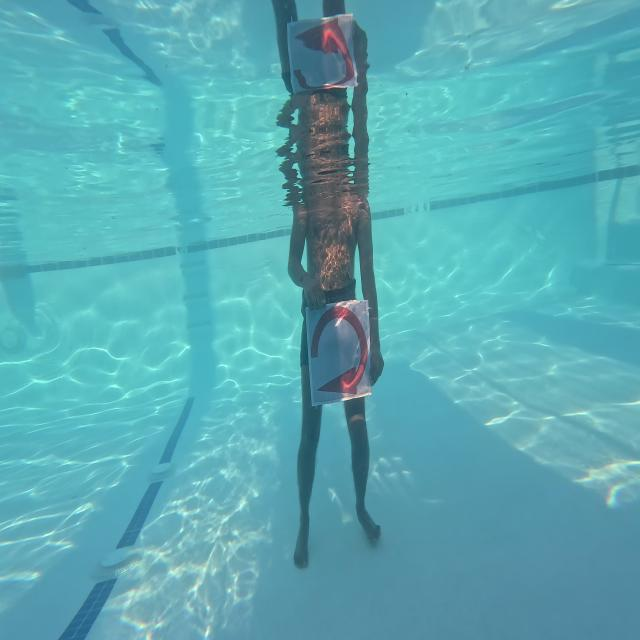red_side: (306, 301, 370, 403)
